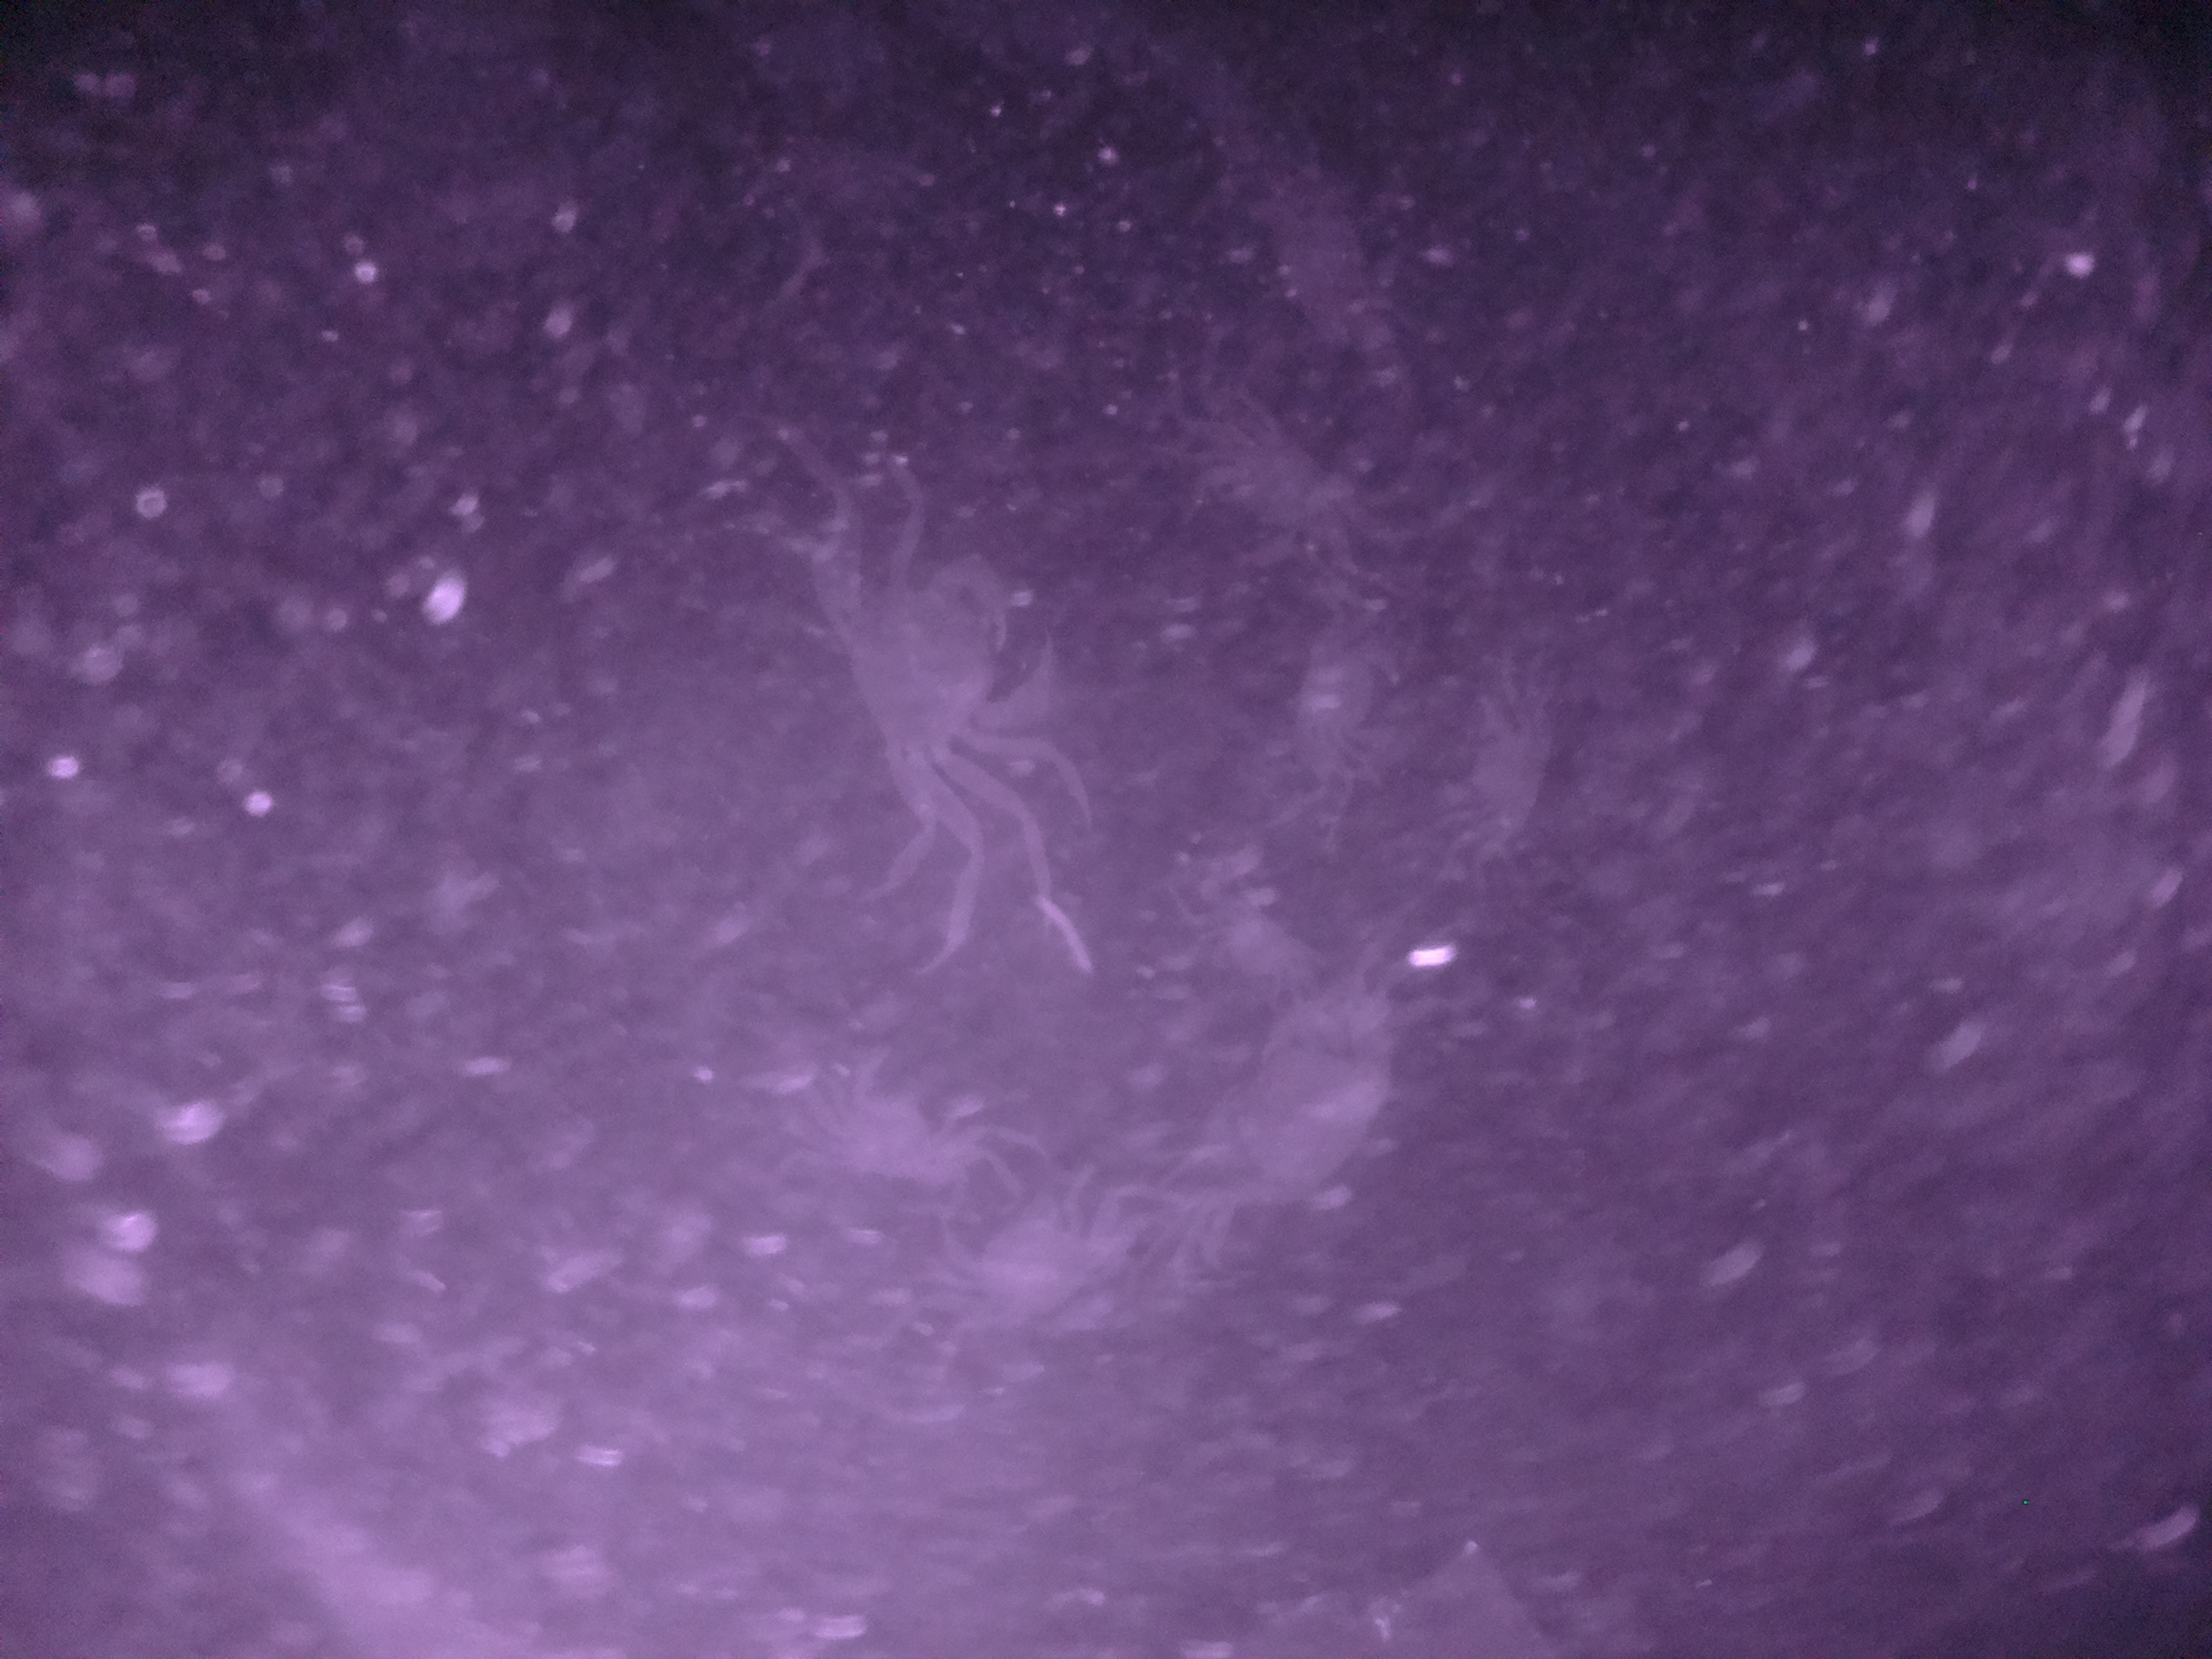Crab: (820, 511, 1076, 852), (789, 1026, 1014, 1192), (1420, 660, 1569, 852), (1289, 606, 1414, 788)
